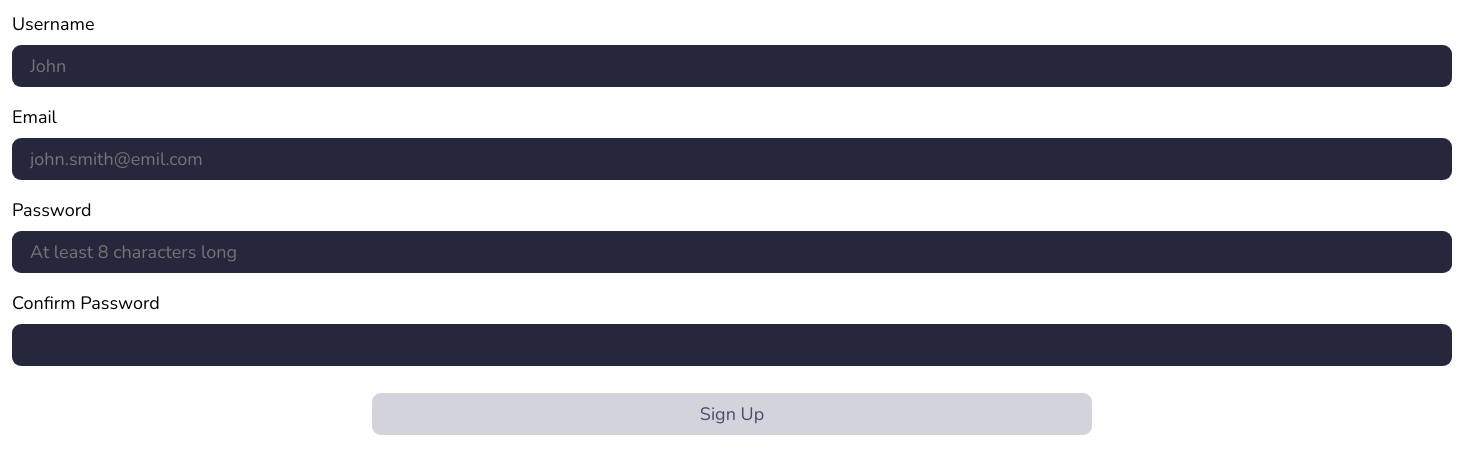
Test: SignUpForm › validates feilds, and do not submit when all fields are not valid
The image size is (1464, 452).
Type "test.com" into the field labelled "Email".
click(732, 159); type("test.com")  # box [12,138,1452,180]
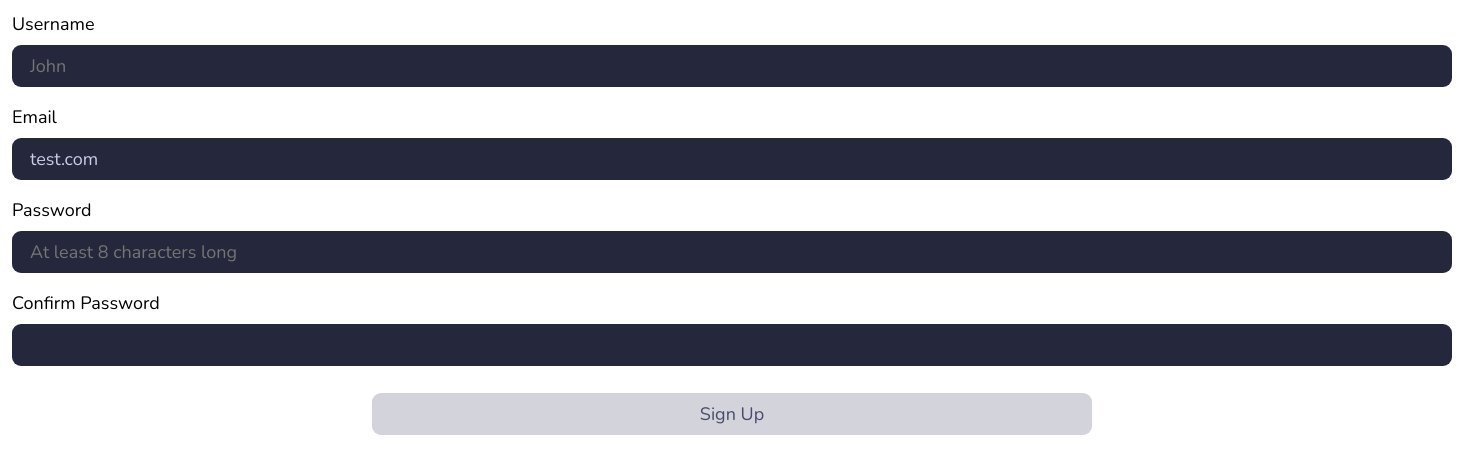
Type "pw" into the password field labelled "Password".
click(732, 252); type("pw")  # box [12,231,1452,273]
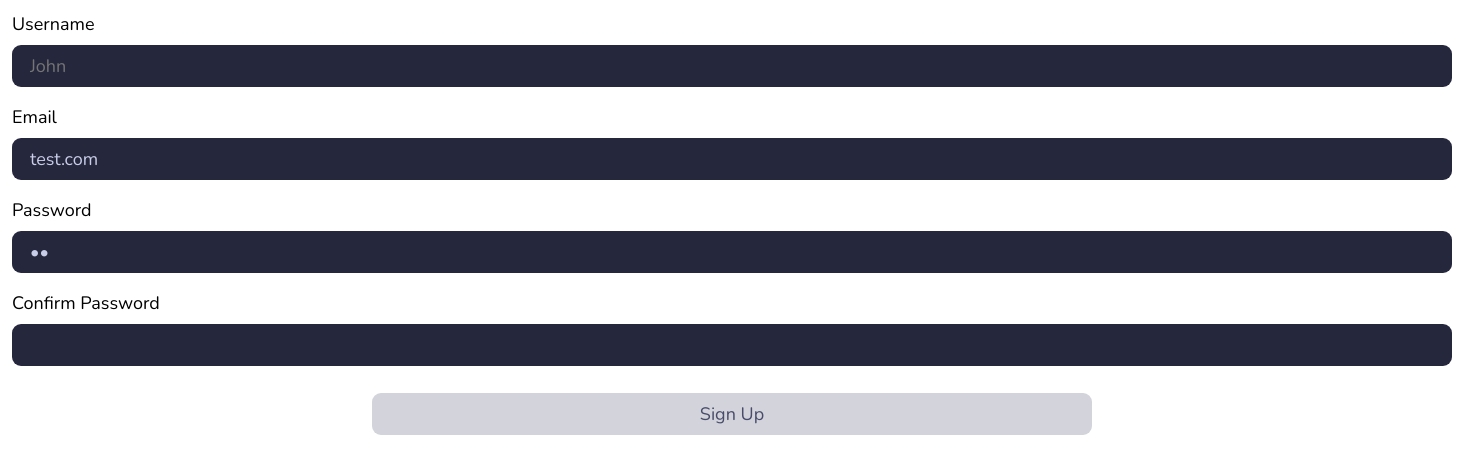
Type "testpassword" into the password field labelled "Confirm Password".
click(732, 345); type("testpassword")  # box [12,324,1452,366]
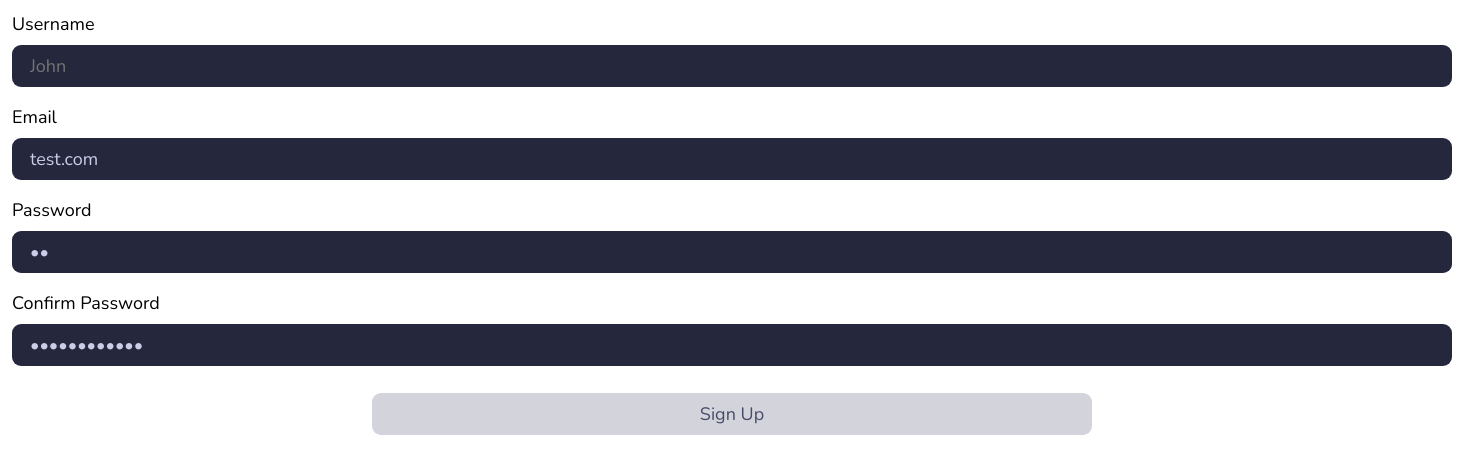
Click the button "Sign Up".
click(732, 414)  # box [372,393,1092,435]
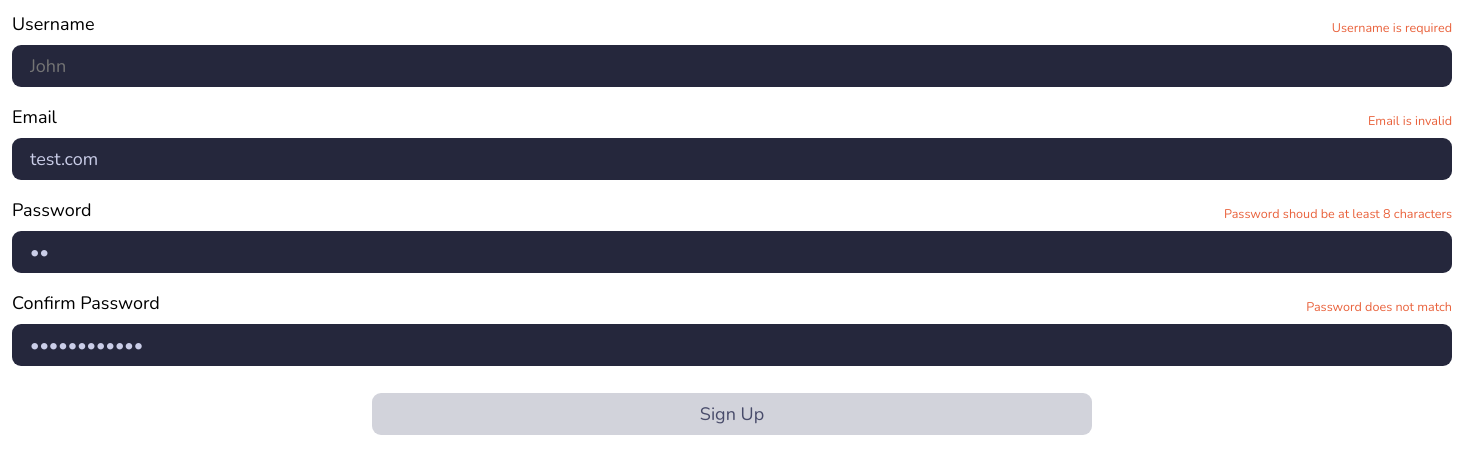
Check: the text "Username is required" is shown, box [1332,19,1452,36]
Check: the text "Email is invalid" is shown, box [1368,112,1452,129]
Check: the text "Password shoud be at least 8 characters" is shown, box [1224,205,1452,222]
